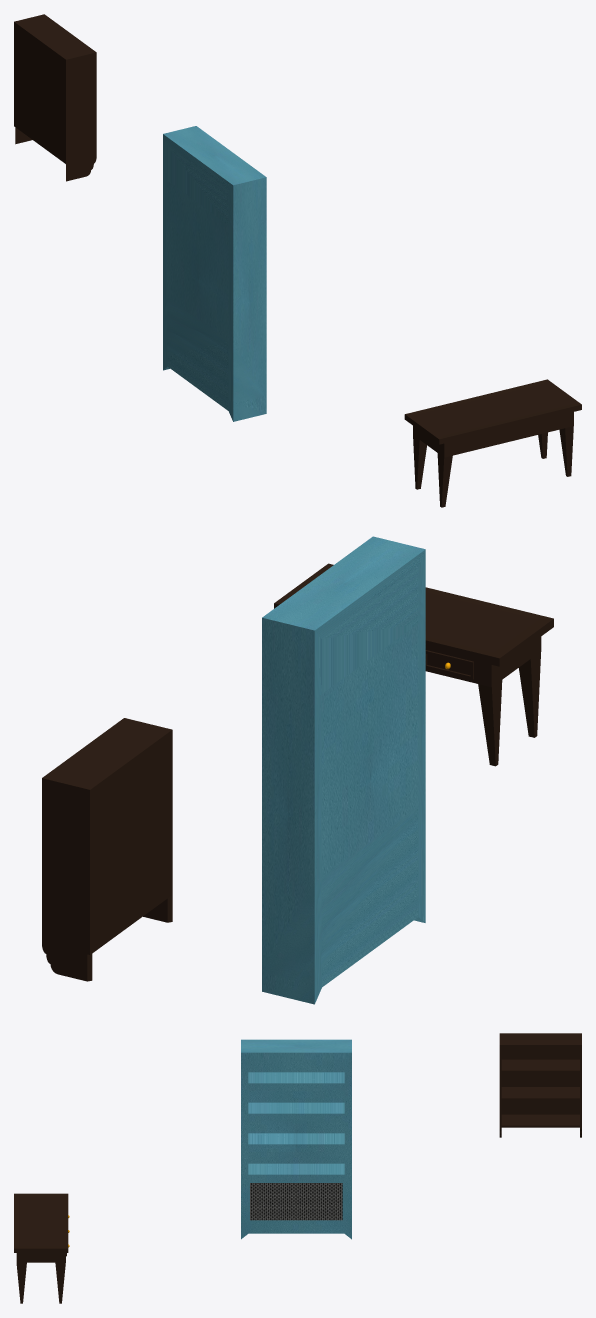
Rendered from LibrerosEscritorio.obj.
The picture shows the model from 3 angles, top to bottom: view 1: azimuth 30°, elevation 25°; view 2: azimuth 150°, elevation 25°; view 3: azimuth 270°, elevation 25°; orthographic projection. The views are drawn at different scales.
Visible parts, largest first — view 1: ArmFBXASC195FBXASC161rioFBXASC032Som, ArmFBXASC195FBXASC161rio, Mesa; view 2: ArmFBXASC195FBXASC161rioFBXASC032Som, ArmFBXASC195FBXASC161rio, Mesa; view 3: ArmFBXASC195FBXASC161rioFBXASC032Som, ArmFBXASC195FBXASC161rio, Mesa, ArmFBXASC195FBXASC161rioFBXASC032SomFBXASC046001.
Boxes of the visible parts, x1,y1,x2,y2 form: ArmFBXASC195FBXASC161rioFBXASC032Som: (163,126,266,421); ArmFBXASC195FBXASC161rio: (14,14,96,181); Mesa: (404,379,581,507); ArmFBXASC195FBXASC161rioFBXASC032Som: (262,536,425,1004); ArmFBXASC195FBXASC161rio: (42,718,172,981); Mesa: (274,563,553,766); ArmFBXASC195FBXASC161rioFBXASC032Som: (241,1039,351,1239); ArmFBXASC195FBXASC161rio: (499,1033,581,1137); Mesa: (14,1193,68,1303); ArmFBXASC195FBXASC161rioFBXASC032SomFBXASC046001: (250,1183,342,1220).
Bounding box in the file's own units: 771 × 861 × 2301.
4 materials, 4 textured.
